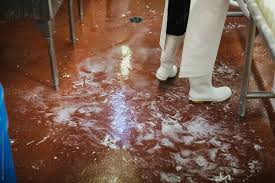Wet-floor: (46, 62, 259, 178)
